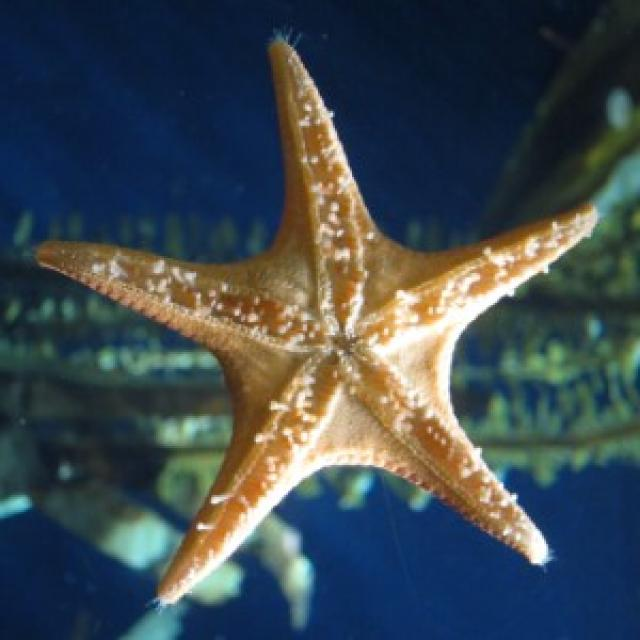Starfish: (32, 28, 604, 613)
